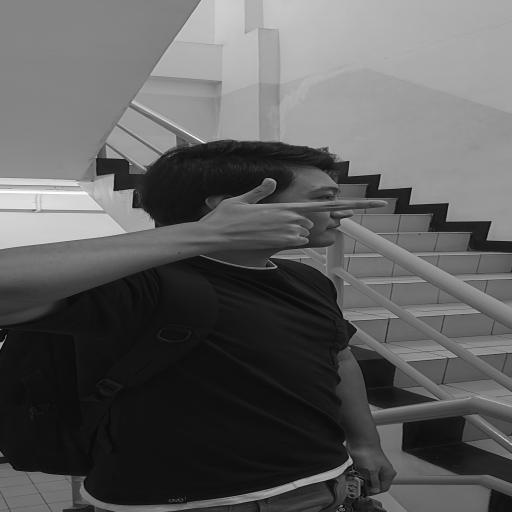next: (196, 174, 403, 259)
